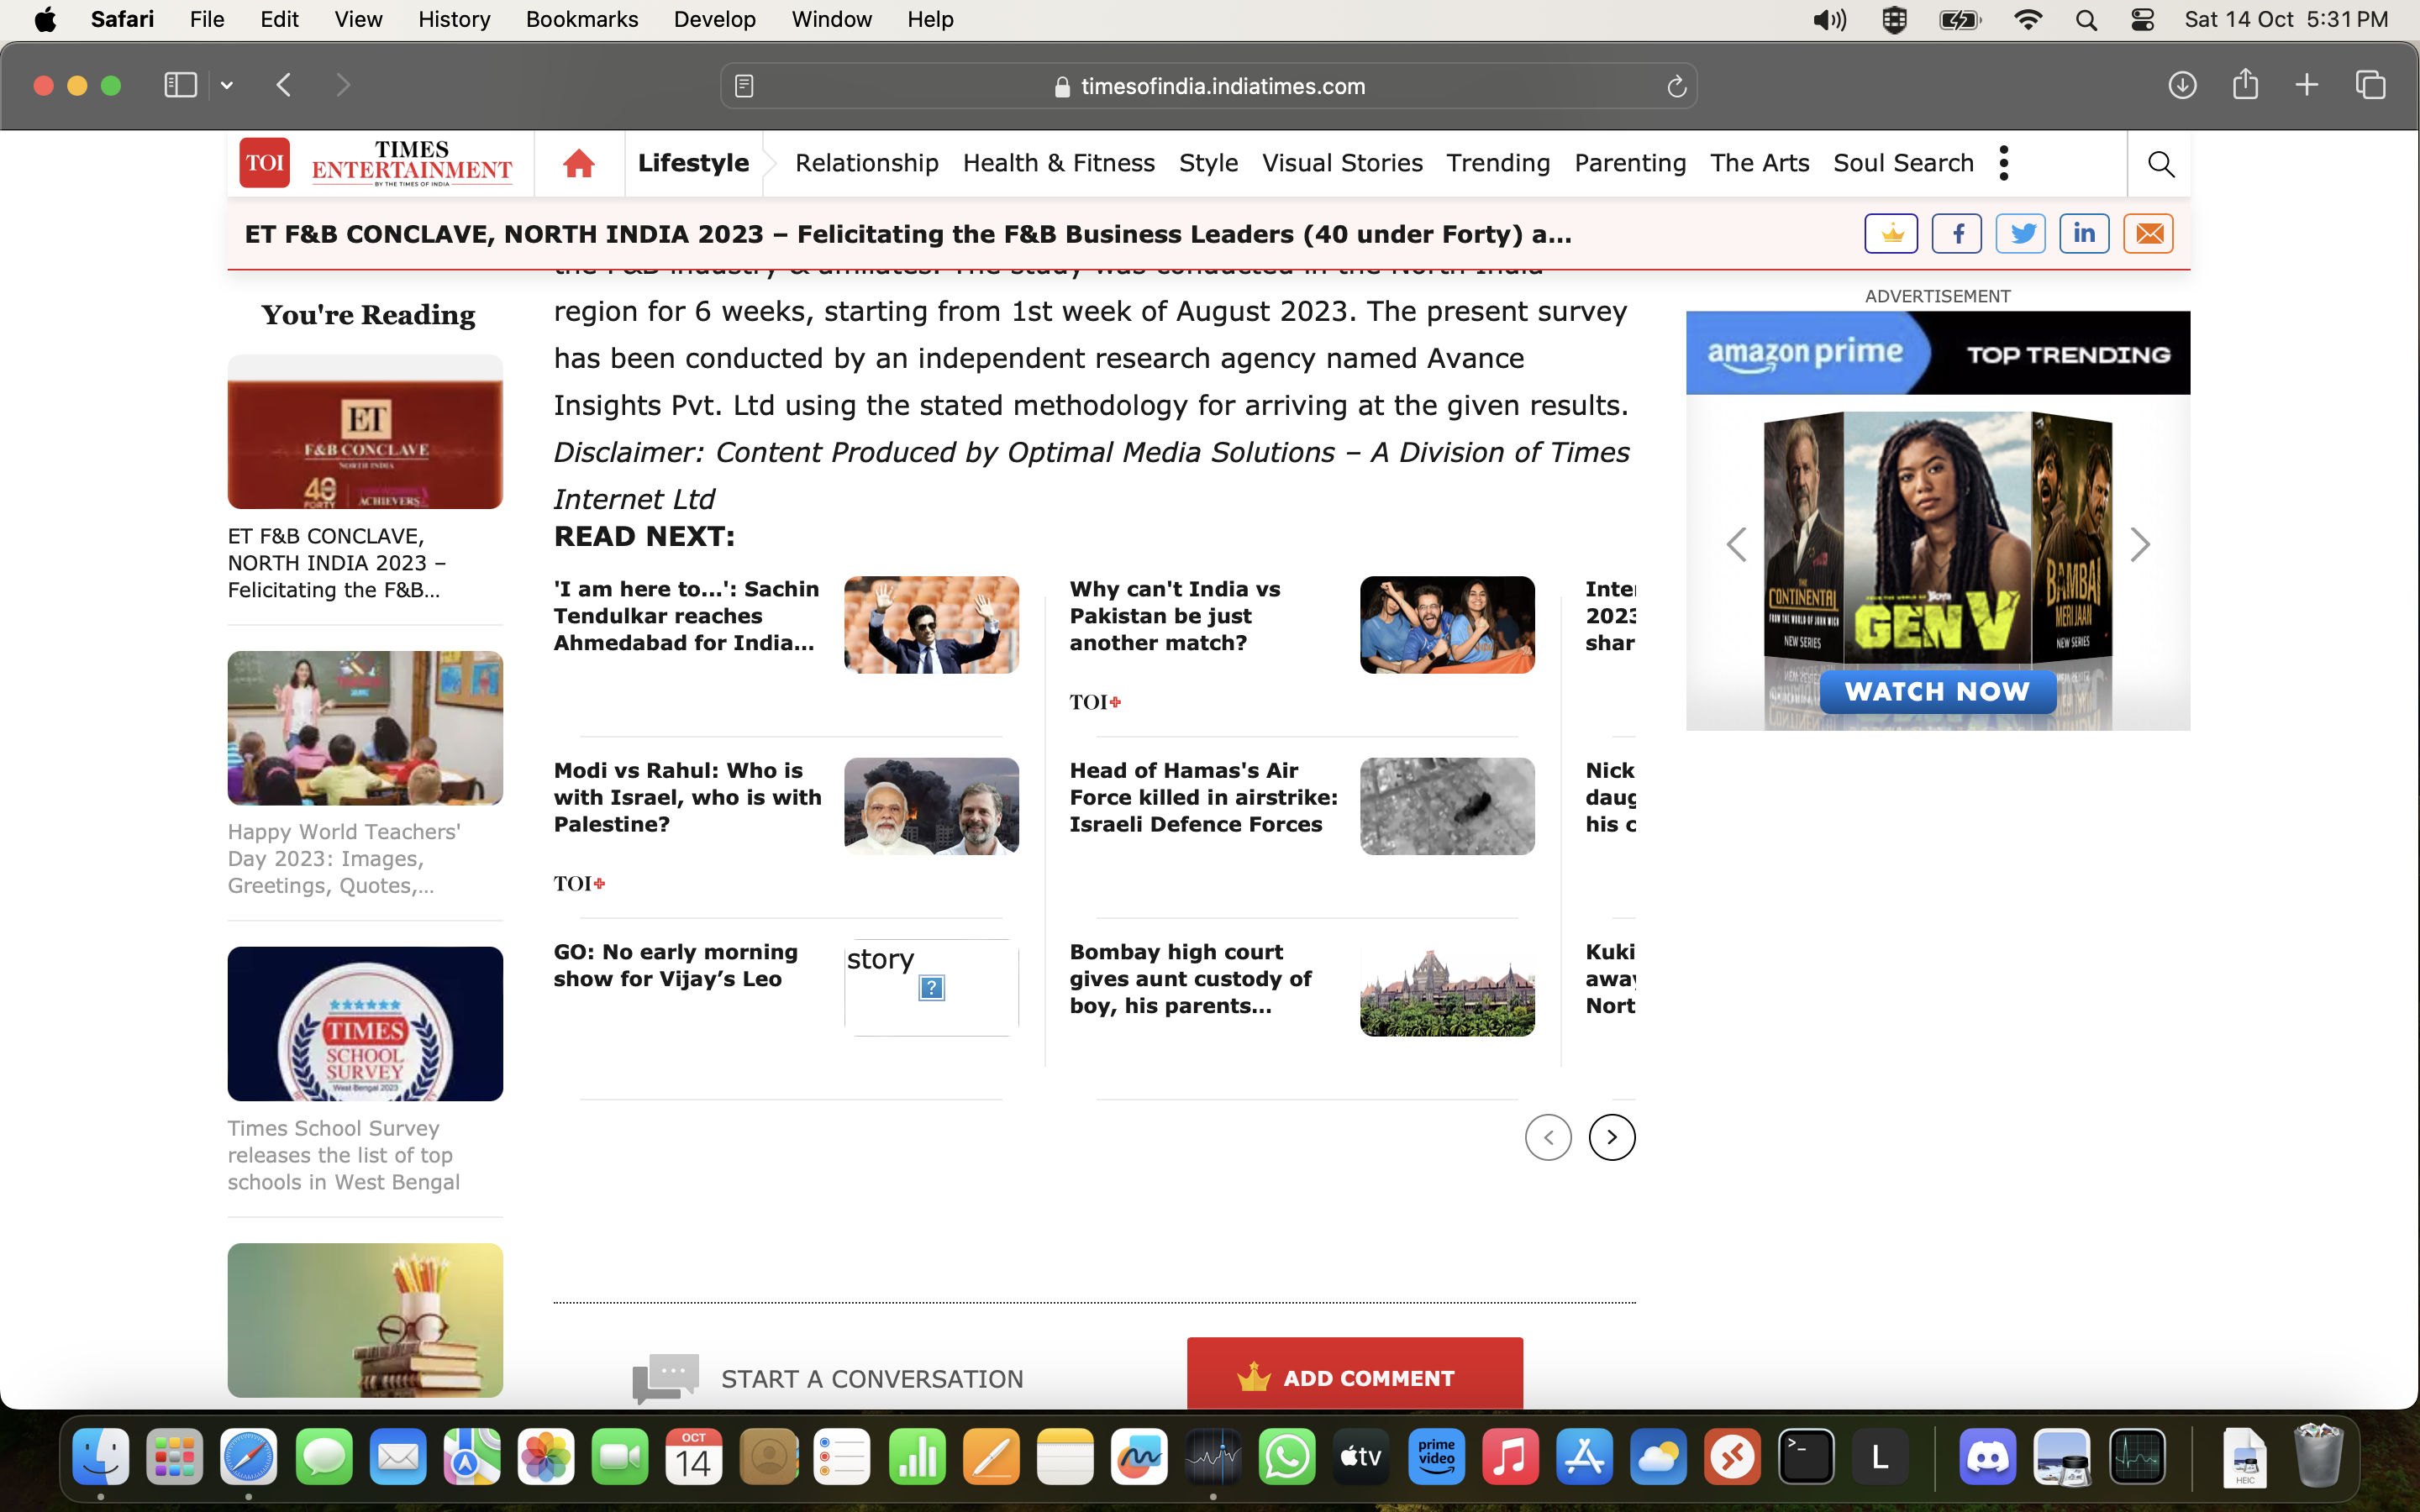Image: (1770, 408, 2106, 723), (216, 357, 507, 521), (220, 1244, 493, 1402), (233, 658, 514, 810), (226, 953, 497, 1101), (840, 584, 1019, 676), (1361, 754, 1533, 850), (850, 758, 1019, 850), (1364, 949, 1540, 1035), (1364, 587, 1537, 672), (850, 946, 1019, 1031)
Paragraph: (552, 294, 1650, 514), (237, 206, 1598, 258), (1049, 744, 1355, 847), (531, 737, 829, 840), (223, 1104, 493, 1214), (220, 812, 484, 916), (556, 573, 833, 672), (233, 514, 491, 620), (1052, 932, 1328, 1031), (1056, 573, 1282, 672), (528, 939, 819, 1009), (1972, 329, 2174, 390), (1693, 336, 1913, 387), (247, 294, 491, 336), (782, 134, 946, 195), (1261, 141, 1434, 199), (953, 134, 1173, 178), (549, 521, 751, 563), (1707, 138, 1831, 181), (1180, 138, 1249, 188)
